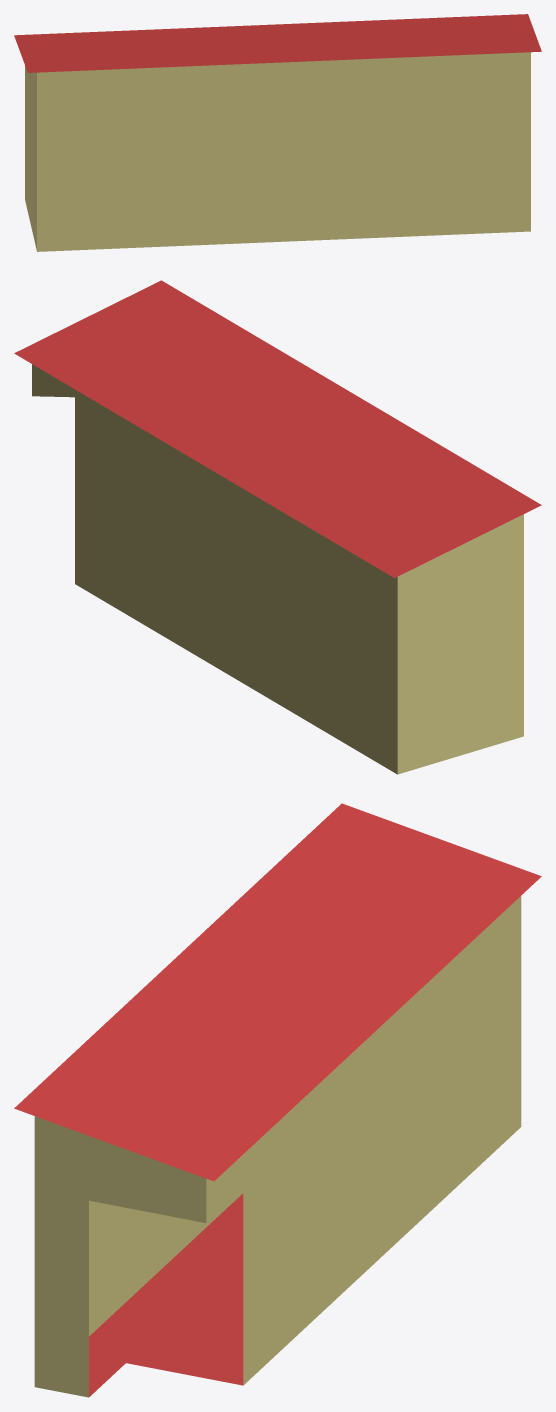
3 views of the same model, one above another, from view 1: azimuth 30°, elevation 25°; view 2: azimuth 150°, elevation 25°; view 3: azimuth 270°, elevation 25° (orthographic). The views are drawn at different scales.
Bounding box in the file's own units: 25.96 × 16.86 × 9.93.
